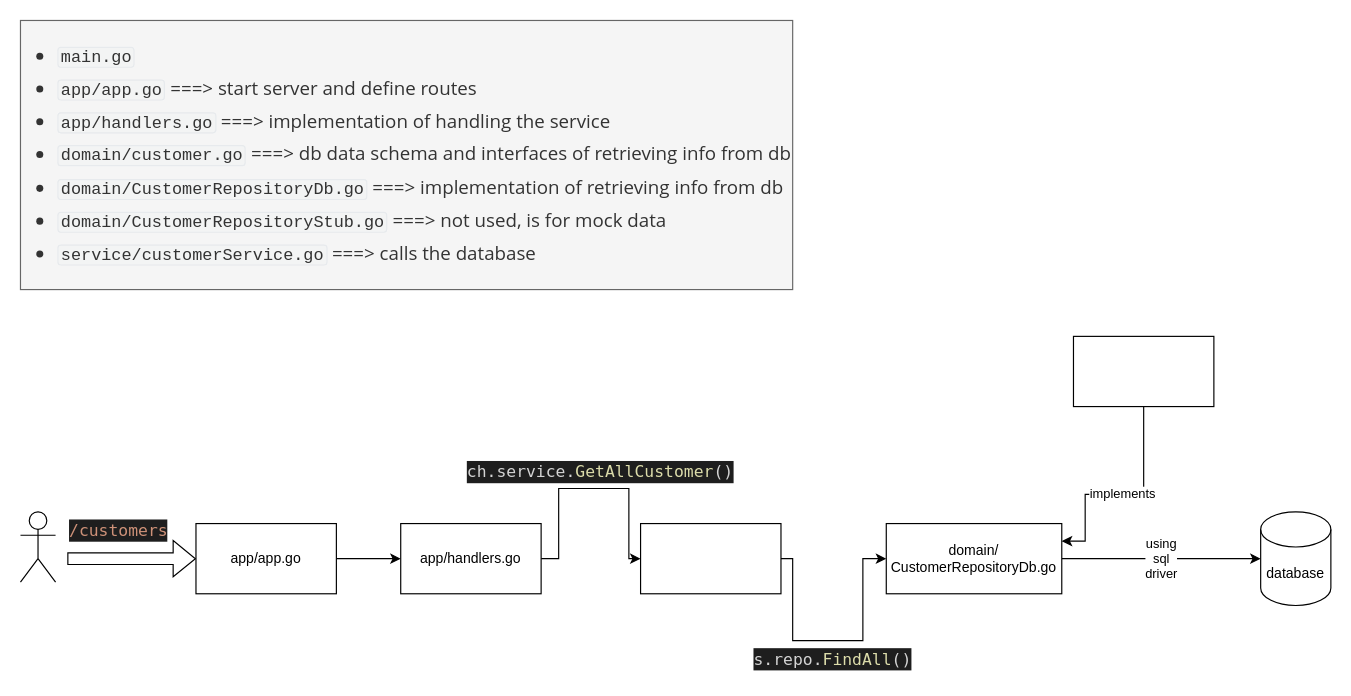
This 1351x696 diagram has some shape labels left out. Each missing label, with the centre of its shape:
"- db schema defined as struct - interfaces" goes at pixel 1143 371.
"Actor" goes at pixel 37 546.
"service/ customerService.go" goes at pixel 710 558.
